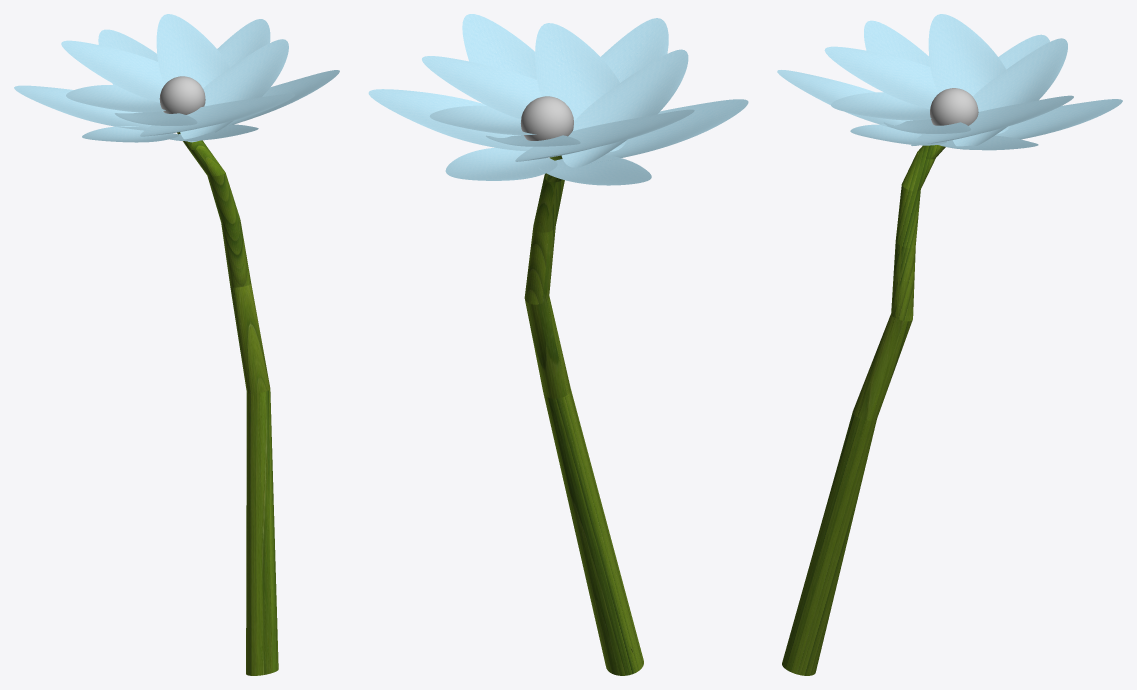
The model's file is Blume2.fbx.
3 renders of one model, left to right at view 1: azimuth 30°, elevation 25°; view 2: azimuth 150°, elevation 25°; view 3: azimuth 270°, elevation 25°, orthographic. The views are drawn at different scales.
Parts seen in each view (by area): view 1: Petall, Stem, LargePetall, Sphere; view 2: Petall, LargePetall, Stem, Sphere; view 3: Petall, Stem, LargePetall, Sphere.
Part boxes in pixels (<box>): Petall: <box>61,14,294,142</box>; Stem: <box>177,132,278,675</box>; LargePetall: <box>14,19,339,142</box>; Sphere: <box>159,76,205,114</box>; Petall: <box>422,23,694,167</box>; LargePetall: <box>368,14,748,185</box>; Stem: <box>524,155,643,675</box>; Sphere: <box>520,96,573,140</box>; Petall: <box>824,14,1073,146</box>; Stem: <box>782,145,945,675</box>; LargePetall: <box>777,20,1122,150</box>; Sphere: <box>930,88,978,125</box>.
Bounding box in the file's own units: 145 × 162 × 308.
